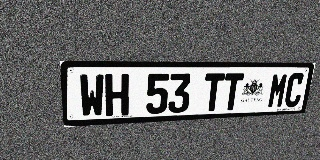3: (168, 73, 191, 113)
5: (146, 74, 169, 114)
C: (283, 73, 306, 107)
H: (105, 74, 129, 116)
M: (267, 73, 289, 108)
T: (202, 73, 225, 112), (221, 73, 244, 111)
W: (79, 74, 105, 118)
